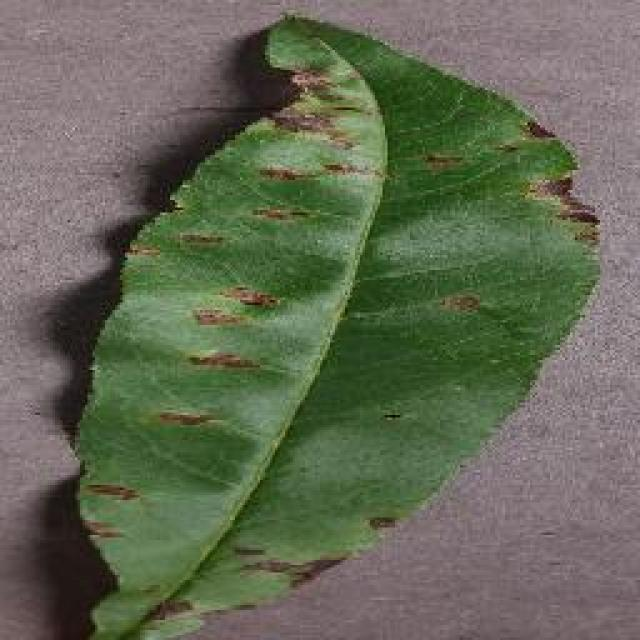Peach_Bacterial_Spot: (140, 47, 430, 580)
